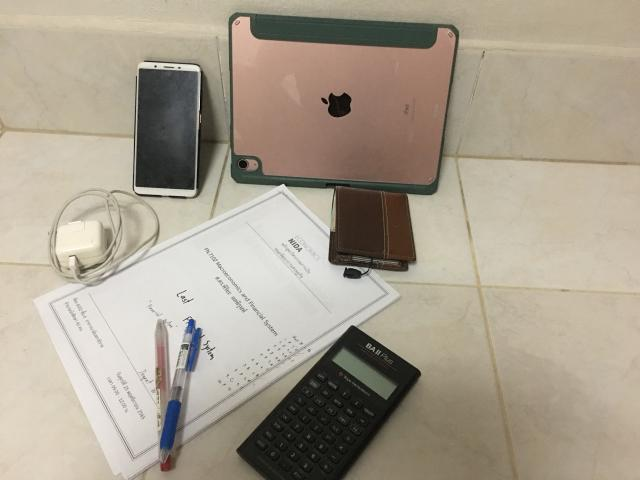Mobile phone: (134, 61, 201, 198)
Pen: (155, 319, 201, 471)
Wallet: (238, 326, 421, 479), (329, 186, 416, 271)
paper: (35, 185, 399, 478)
wire: (48, 189, 160, 286)
